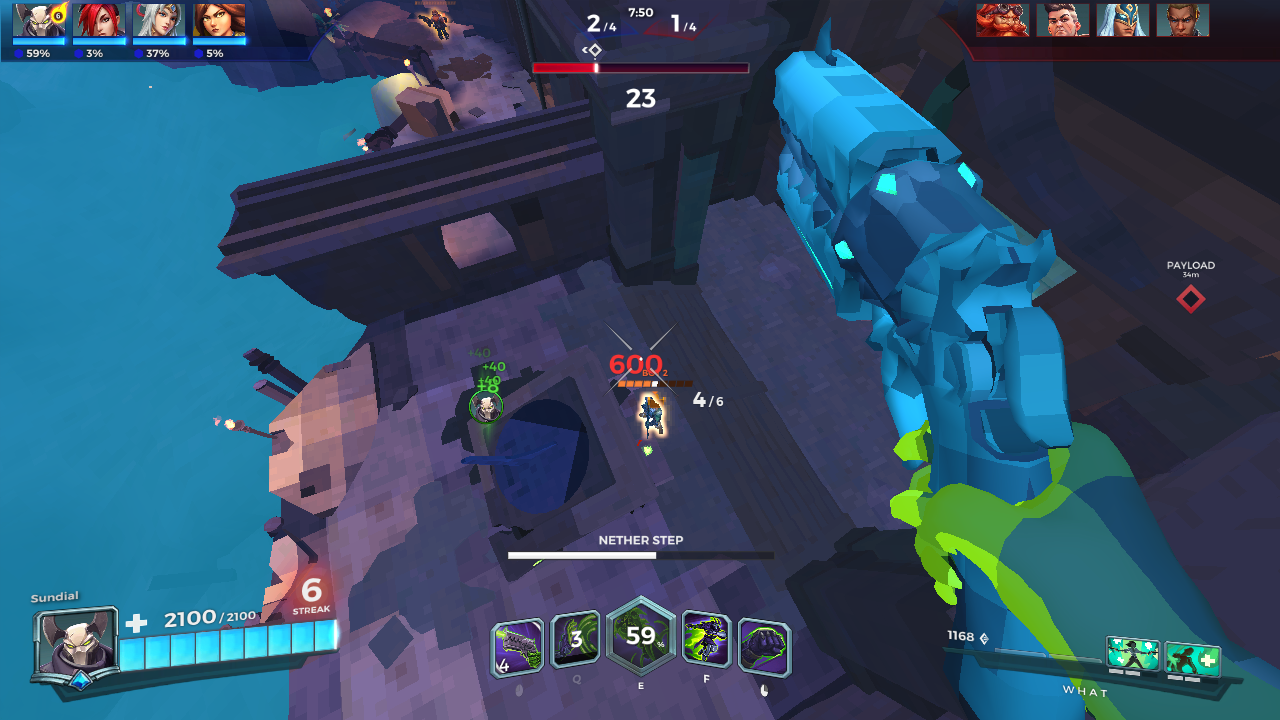model: (642, 388, 671, 435)
